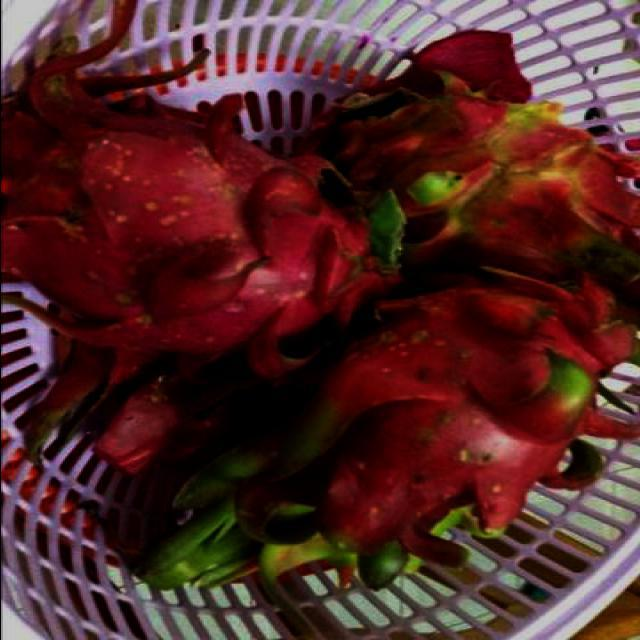do: (134, 277, 639, 595), (1, 76, 374, 358), (332, 81, 639, 300)
